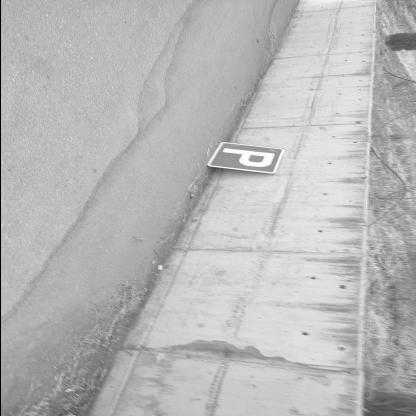Parking-Sign: (204, 143, 286, 177)
